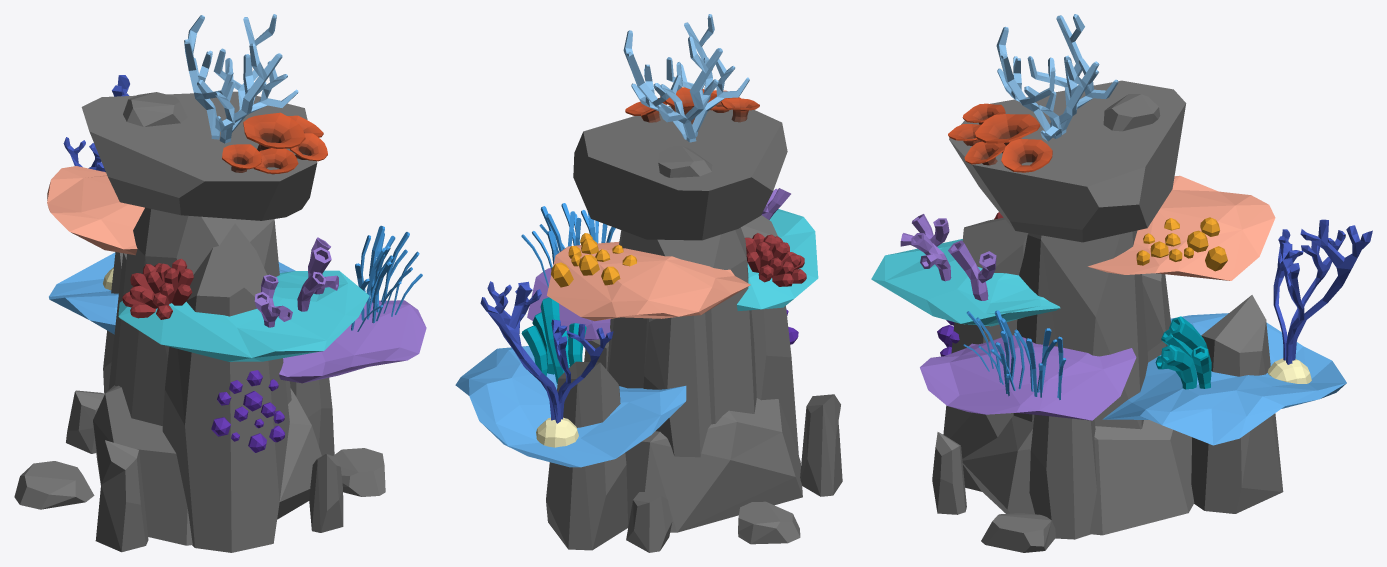
Rendered from Coral_reef_015.glb.
The picture shows the model from 3 angles, left to right: view 1: azimuth 30°, elevation 25°; view 2: azimuth 150°, elevation 25°; view 3: azimuth 270°, elevation 25°; orthographic projection. The views are drawn at different scales.
Visible parts, largest first — view 1: Coral_reef_015; view 2: Coral_reef_015; view 3: Coral_reef_015.
Part boxes in pixels (x1=…): Coral_reef_015: x1=14, y1=14, x2=426, y2=552; Coral_reef_015: x1=455, y1=14, x2=842, y2=552; Coral_reef_015: x1=871, y1=14, x2=1372, y2=552.
Bounding box in the file's own units: 2.99 × 4.05 × 3.94.
1 material, 1 textured.
